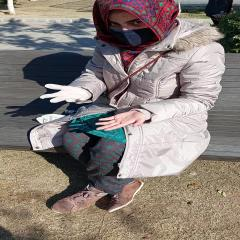gloved: (41, 84, 87, 102)
not-gloved: (96, 111, 144, 131)
